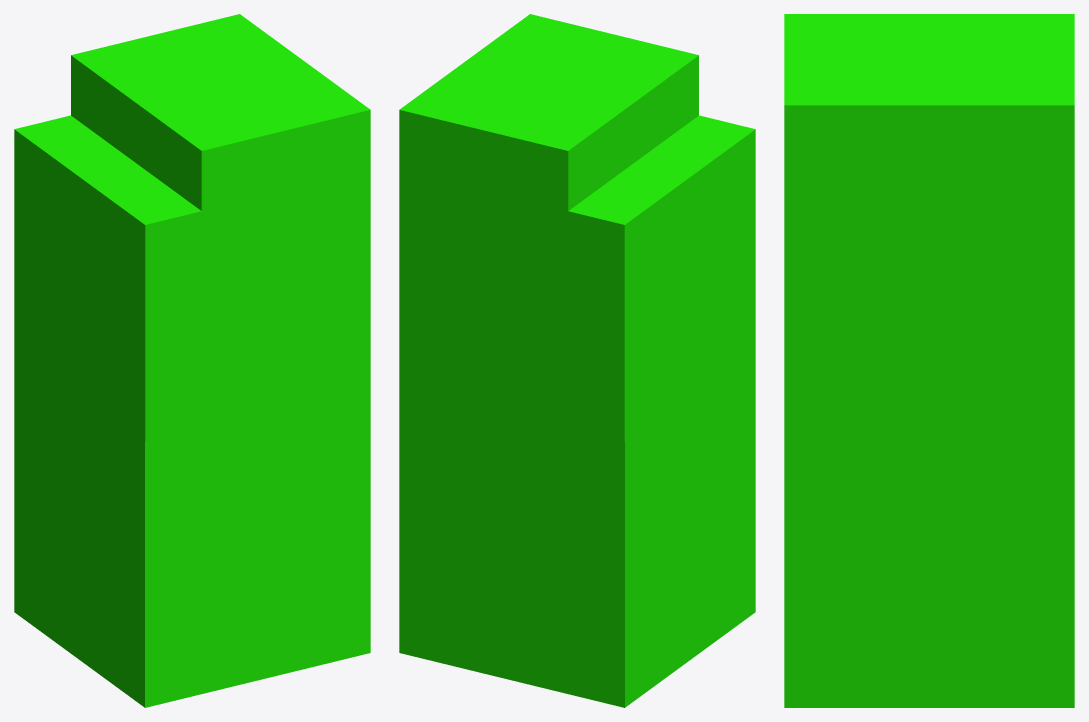
The model's file is pillar_B_low.FBX.
3 views of the same model, side by side, from view 1: azimuth 30°, elevation 25°; view 2: azimuth 150°, elevation 25°; view 3: azimuth 270°, elevation 25° (orthographic). The views are drawn at different scales.
Visible parts, largest first — view 1: pillar_B_low; view 2: pillar_B_low; view 3: pillar_B_low.
Part boxes in pixels (bbox=[...]): pillar_B_low: bbox=[14, 14, 370, 707]; pillar_B_low: bbox=[399, 14, 755, 707]; pillar_B_low: bbox=[784, 14, 1074, 707].
Size of the model in its own units: 39.59 by 91.09 by 39.8.
